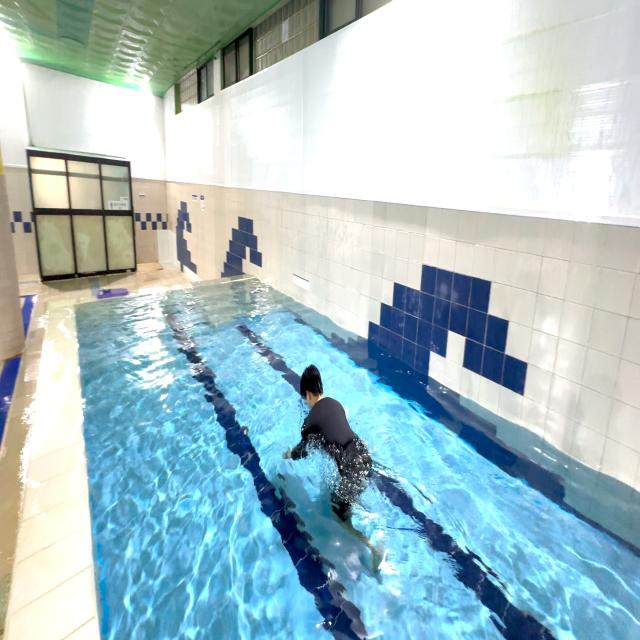Swimming: (277, 344, 389, 491)
